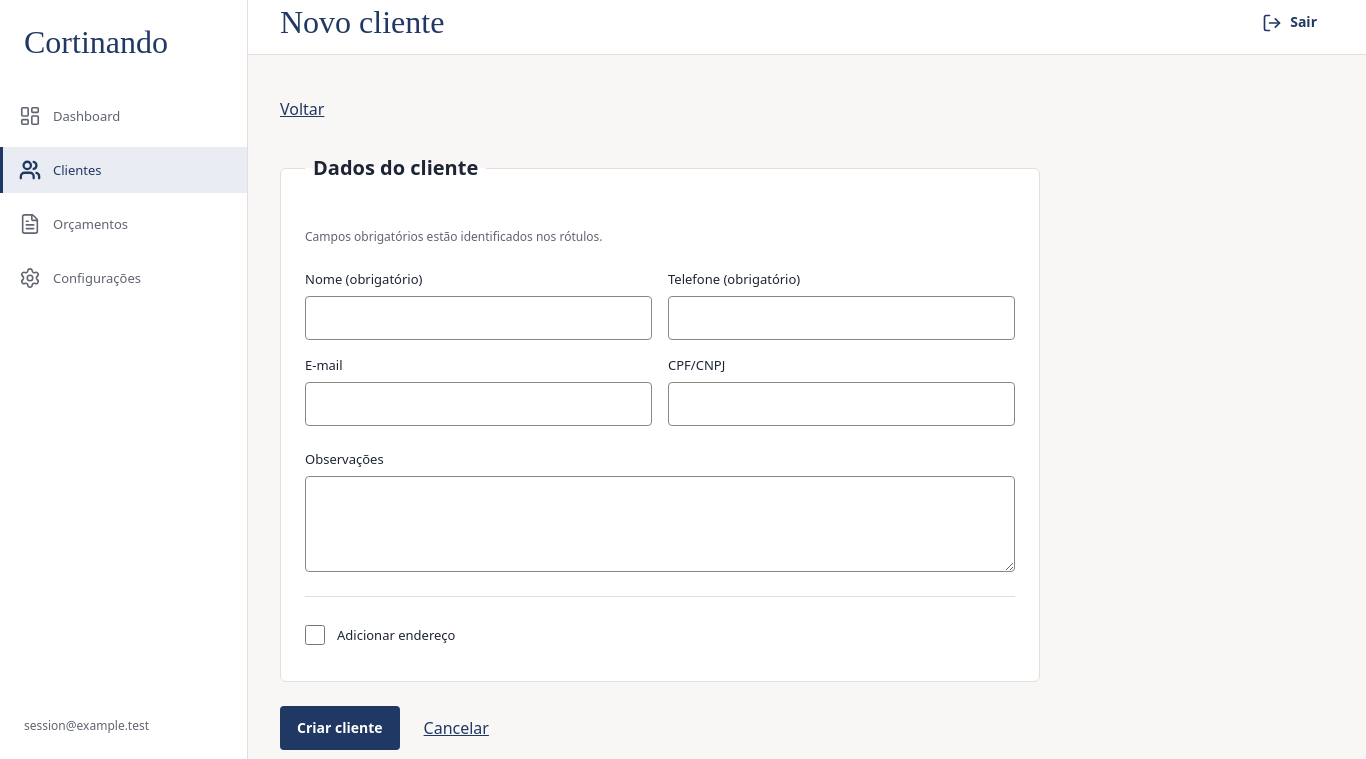
Test: shows conditional address fields and blocks incomplete address submission
This screenshot has width=1366, height=759.
Type "Ana" into the field labelled "Nome (obrigatório)" at (478, 318), box x1=305 y1=296 x2=652 y2=340
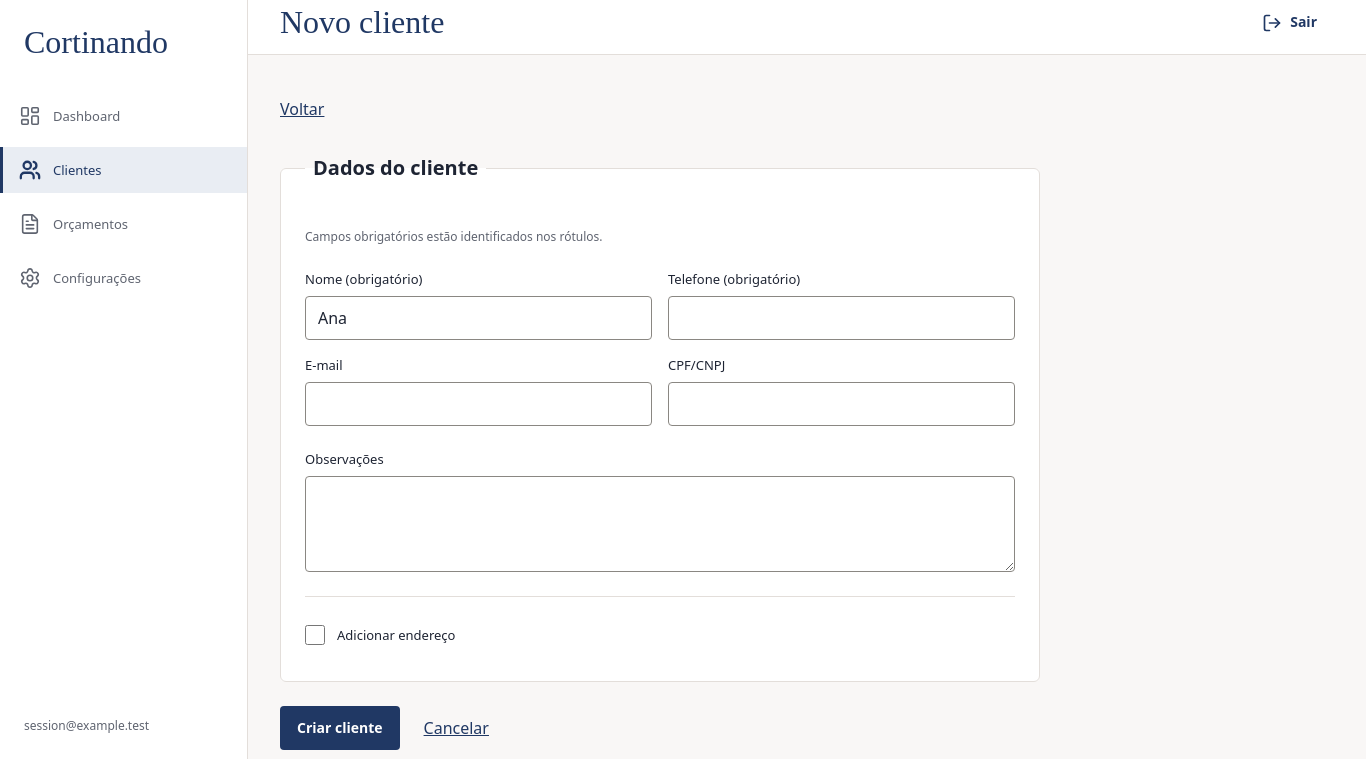
Type "11912345678" into the field labelled "Telefone (obrigatório)" at (842, 318), box x1=668 y1=296 x2=1015 y2=340
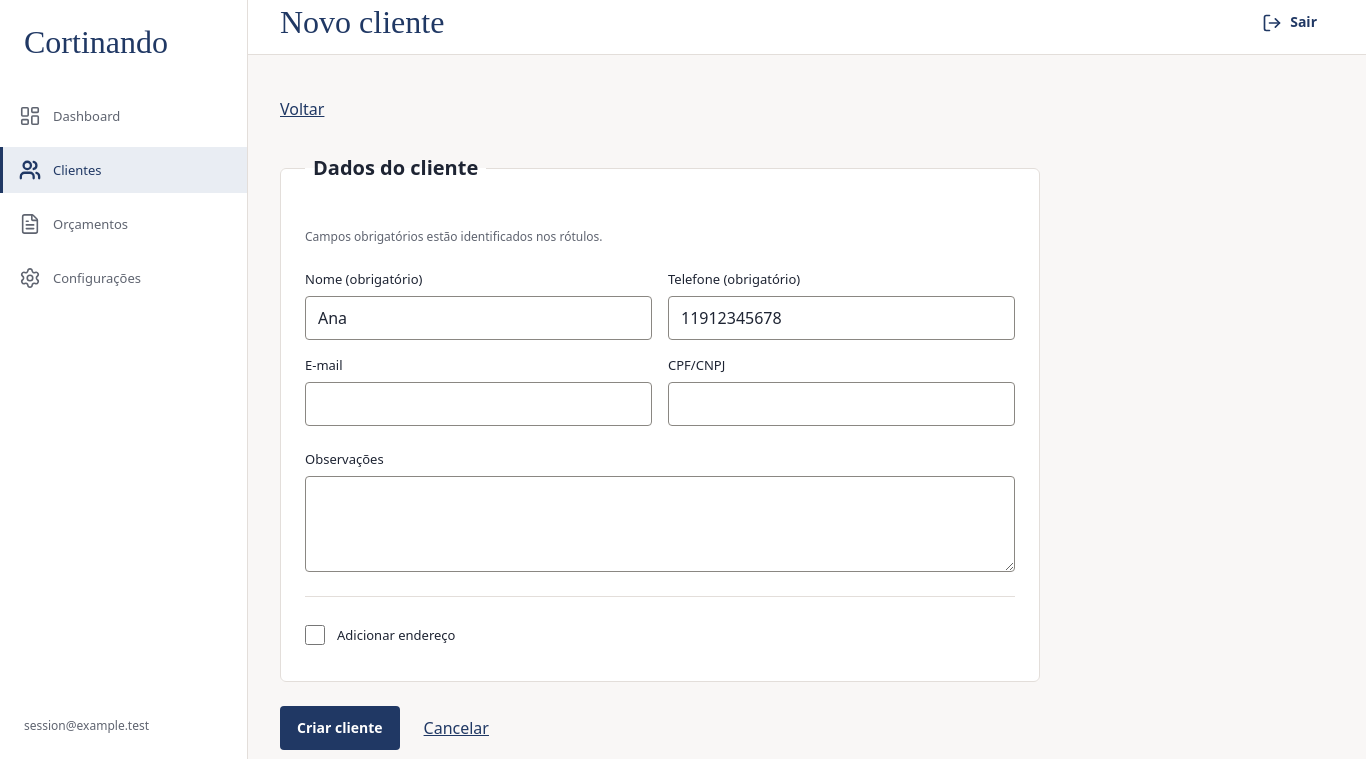
Check: the field labelled "Rua (obrigatório)" is not shown
Click the switch labelled "Adicionar endereço" at (315, 635), box x1=305 y1=625 x2=325 y2=645
(page scrolled)
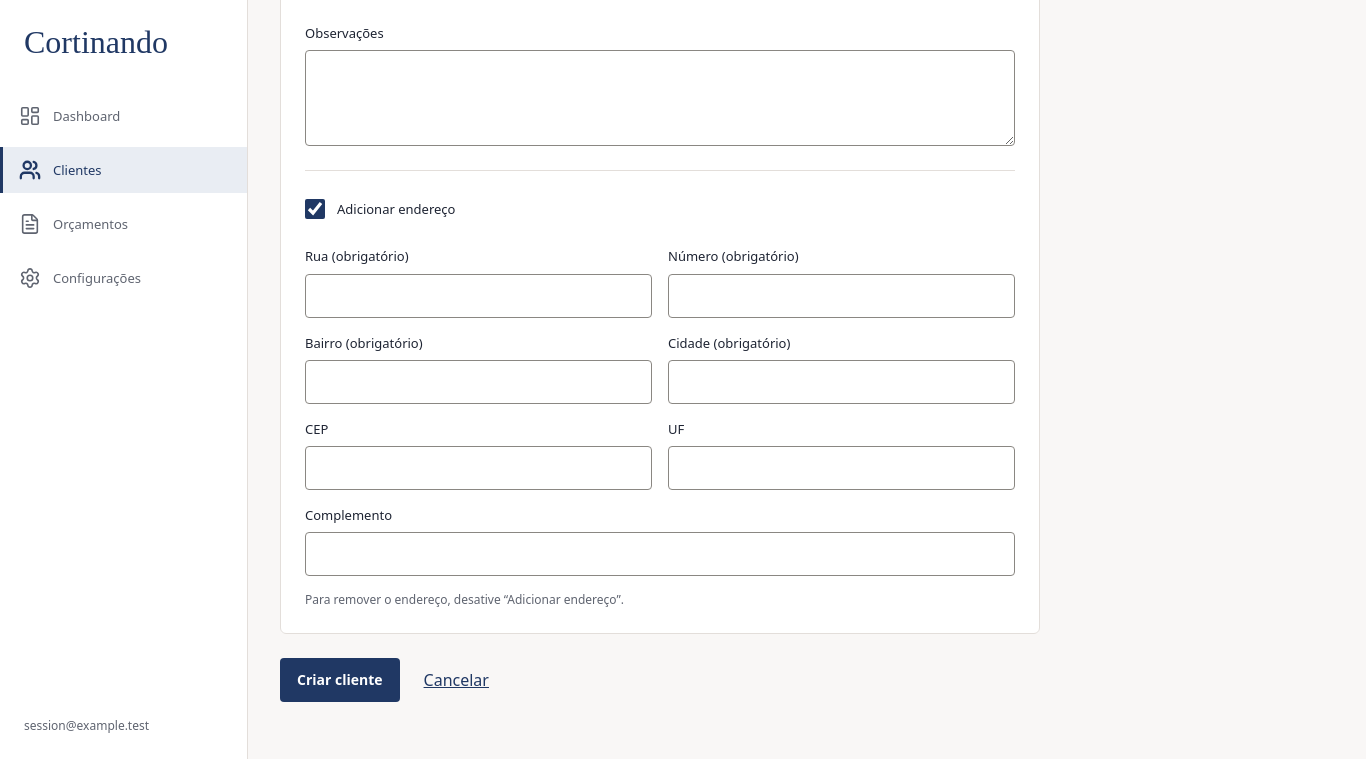
Click the button "Criar cliente" at (340, 680), box x1=280 y1=658 x2=400 y2=702
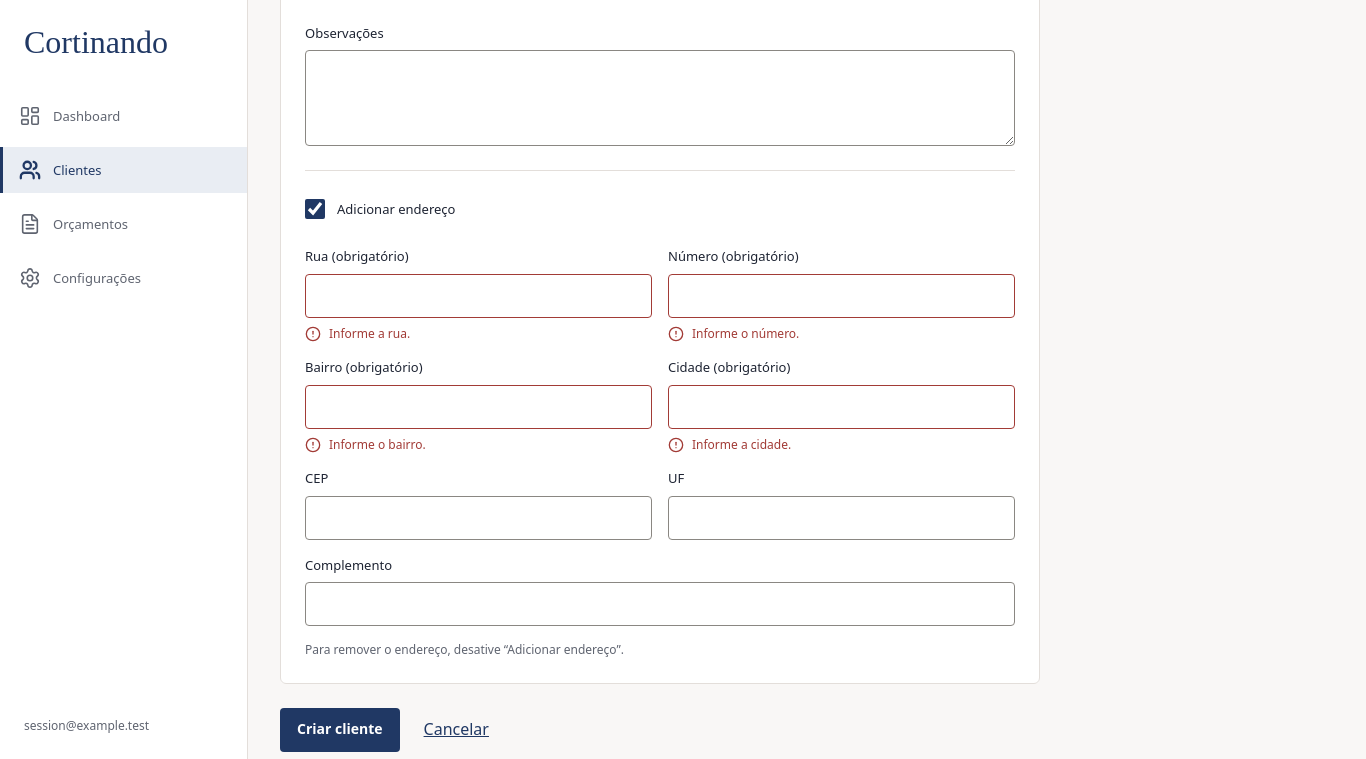
Check: the text "Informe a rua." is shown, box x1=329 y1=326 x2=410 y2=342
Check: the text "Informe o número." is shown, box x1=692 y1=326 x2=799 y2=342
Check: the text "Informe o bairro." is shown, box x1=329 y1=436 x2=426 y2=453
